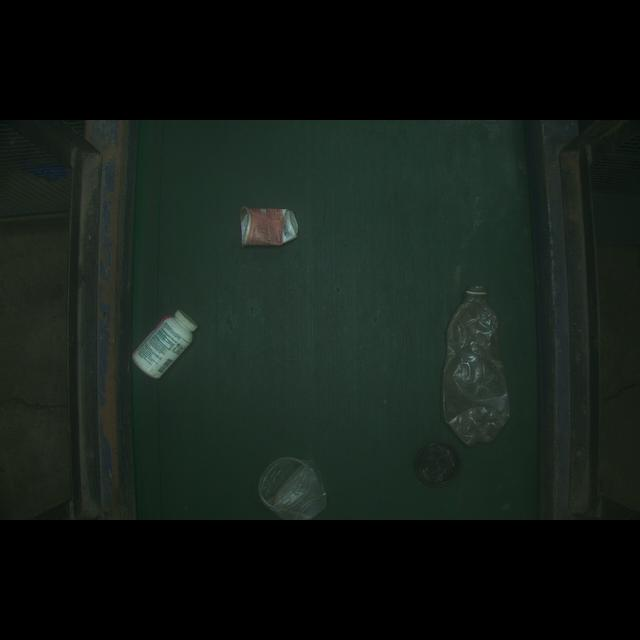mix rigid: (437, 267, 520, 447), (132, 299, 202, 388), (247, 452, 333, 519), (228, 198, 316, 255), (411, 435, 459, 484)
